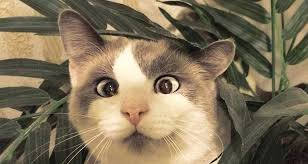Gato: (45, 7, 246, 162)
